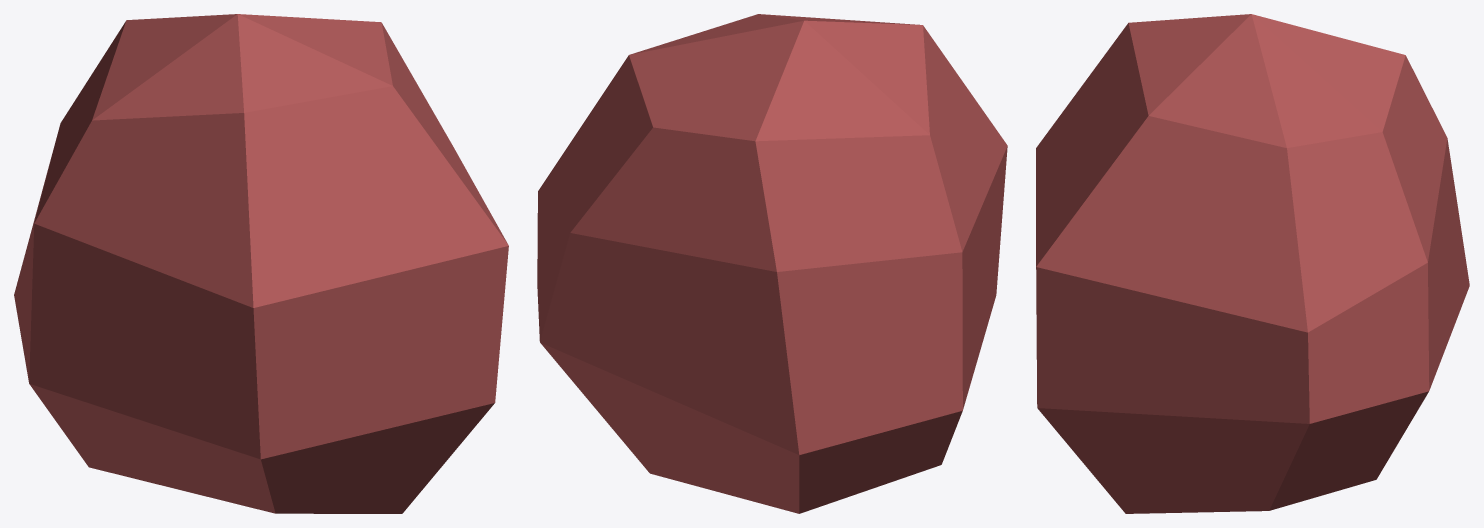
The model's file is candy_3x.fbx.
The picture shows the model from 3 angles, left to right: view 1: azimuth 30°, elevation 25°; view 2: azimuth 150°, elevation 25°; view 3: azimuth 270°, elevation 25°; orthographic projection. The views are drawn at different scales.
Visible parts, largest first — view 1: pSphere1; view 2: pSphere1; view 3: pSphere1.
Boxes of the visible parts, x1,y1,x2,y2 form: pSphere1: (14,14,508,513); pSphere1: (537,14,1007,513); pSphere1: (1036,14,1469,513).
Size of the model in its own units: 588 by 643 by 536.
